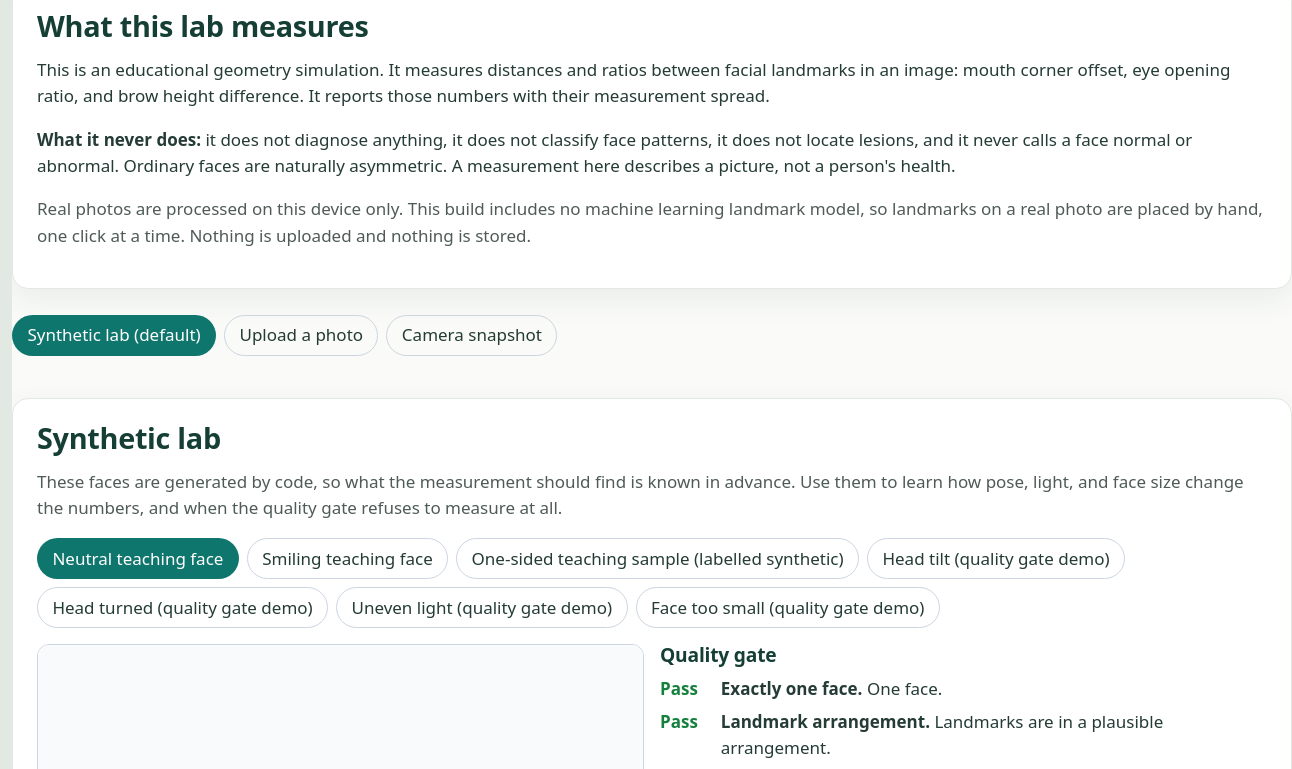
Scenario: FaceAnalyzerLab › refuses the tilted head sample with a cannot analyze panel
Click the button "Head tilt (quality gate demo)" at (996,559), box [867,538,1125,579]
(page scrolled)
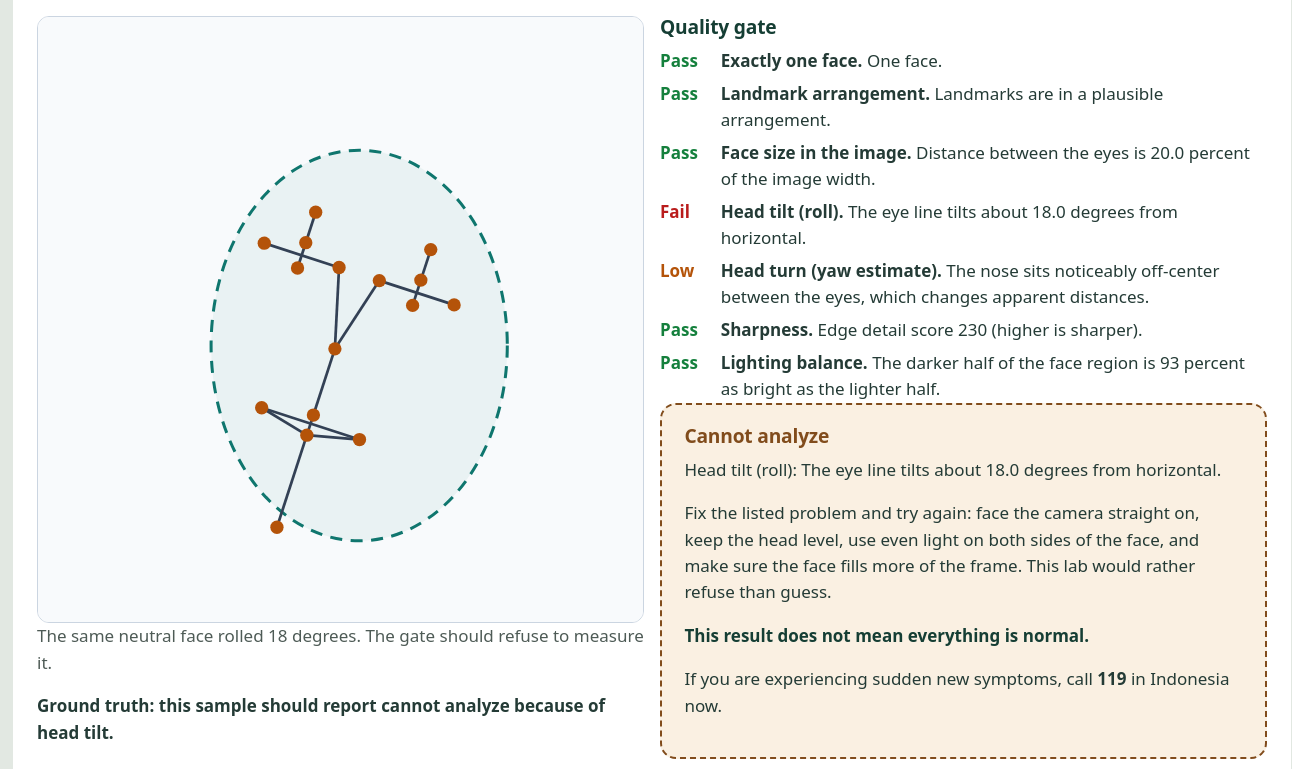
expect the heading "Cannot analyze" is shown: met, box [684,422,829,449]
